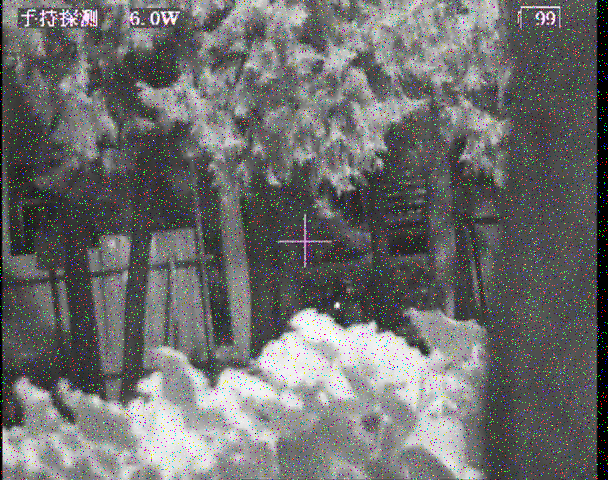my: (332, 301, 344, 311)
